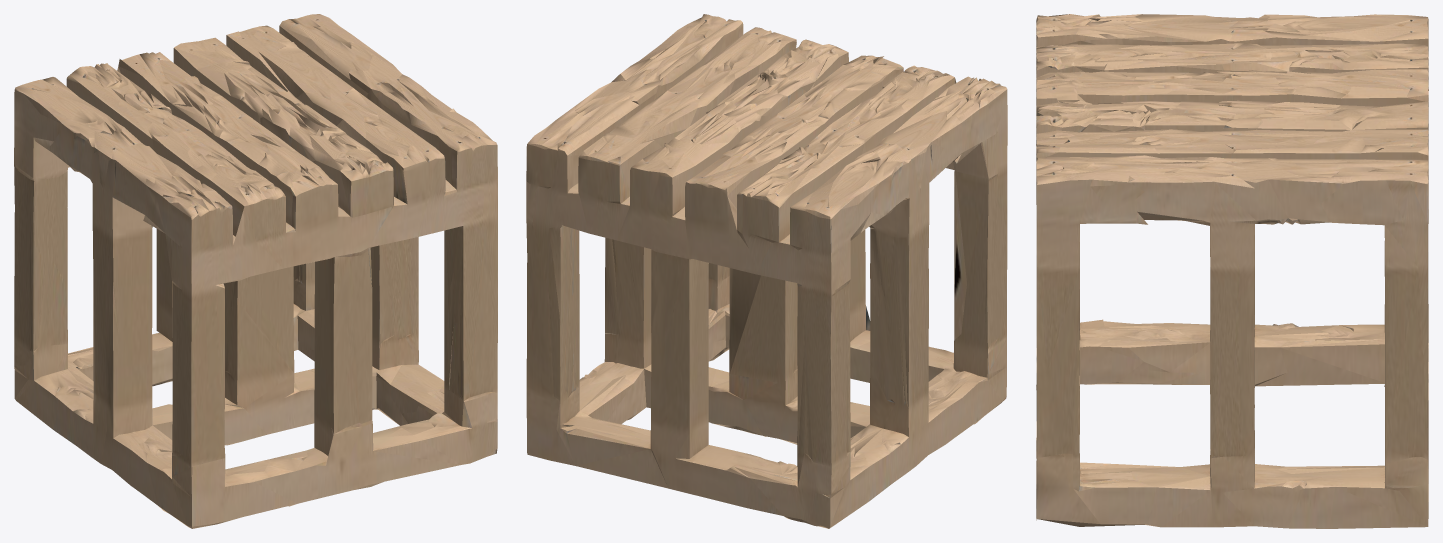
The picture shows the model from 3 angles, left to right: view 1: azimuth 30°, elevation 25°; view 2: azimuth 150°, elevation 25°; view 3: azimuth 270°, elevation 25°; orthographic projection. The views are drawn at different scales.
Visible parts, largest first — view 1: wood-pallet; view 2: wood-pallet; view 3: wood-pallet.
Part boxes in pixels (x1,y1,x2,y2): wood-pallet: [14, 14, 497, 528]; wood-pallet: [526, 14, 1007, 528]; wood-pallet: [1036, 14, 1428, 528].
Bounding box in the file's own units: 1 × 1 × 1.
1 material, 1 textured.
